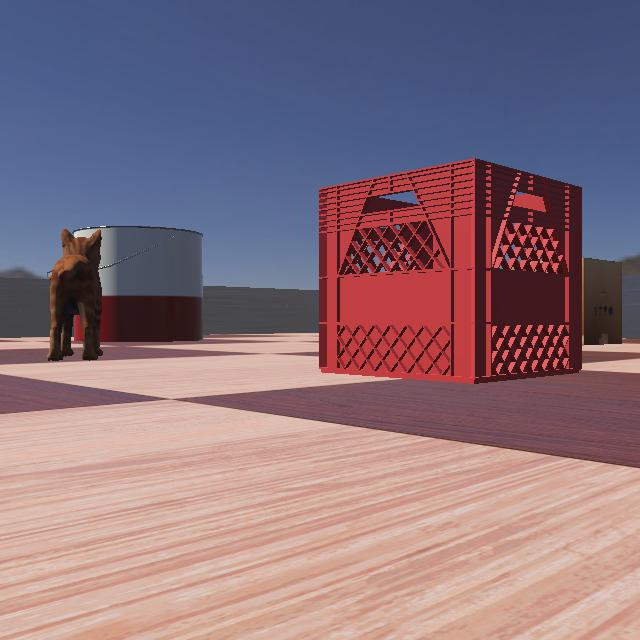cat: (0, 198, 136, 366), (0, 198, 136, 366), (0, 198, 136, 366)
paint-bucket: (4, 220, 212, 344), (4, 220, 212, 344)
plastic-crate: (318, 157, 638, 383)
